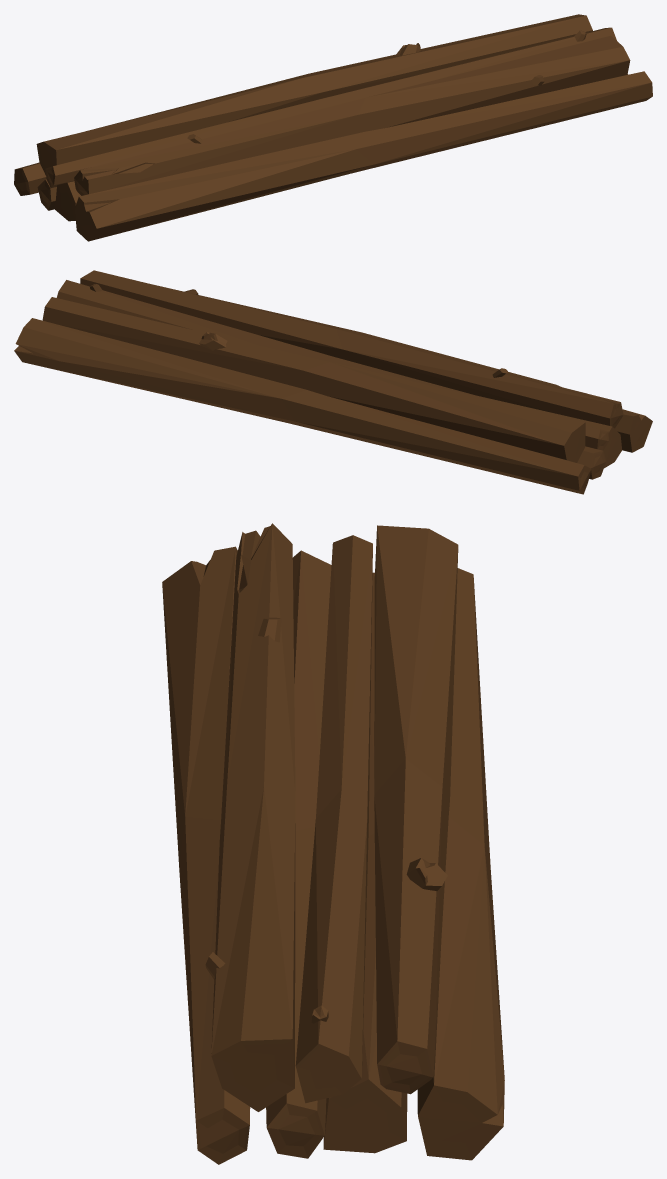
The model's file is SM_Tree_Beech_Log_Pile_A.fbx.
3 views of the same model, one above another, from view 1: azimuth 30°, elevation 25°; view 2: azimuth 150°, elevation 25°; view 3: azimuth 270°, elevation 25° (orthographic). The views are drawn at different scales.
Parts seen in each view (by area): view 1: tree-beech-log-pile-a; view 2: tree-beech-log-pile-a; view 3: tree-beech-log-pile-a.
Part boxes in pixels (left/top/right/bottom): tree-beech-log-pile-a: left=14, top=14, right=652, bottom=241; tree-beech-log-pile-a: left=14, top=270, right=652, bottom=494; tree-beech-log-pile-a: left=162, top=523, right=504, bottom=1164.
Size of the model in its own units: 4.67 by 0.5354 by 1.23.
